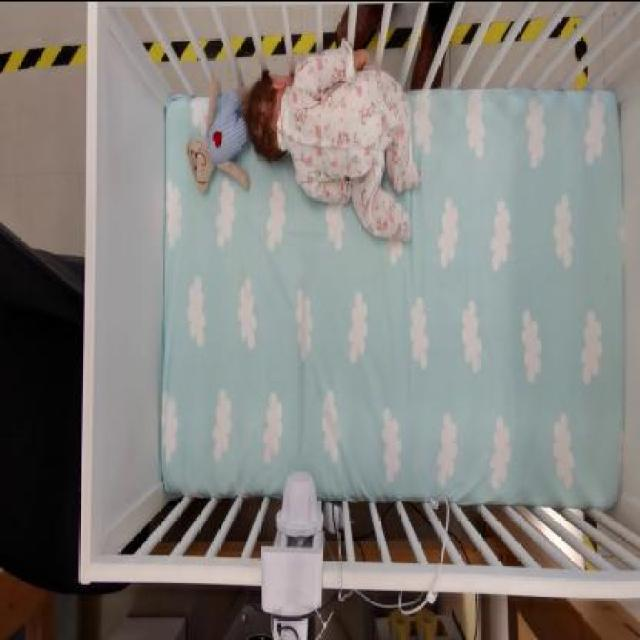baby: (241, 38, 422, 245)
